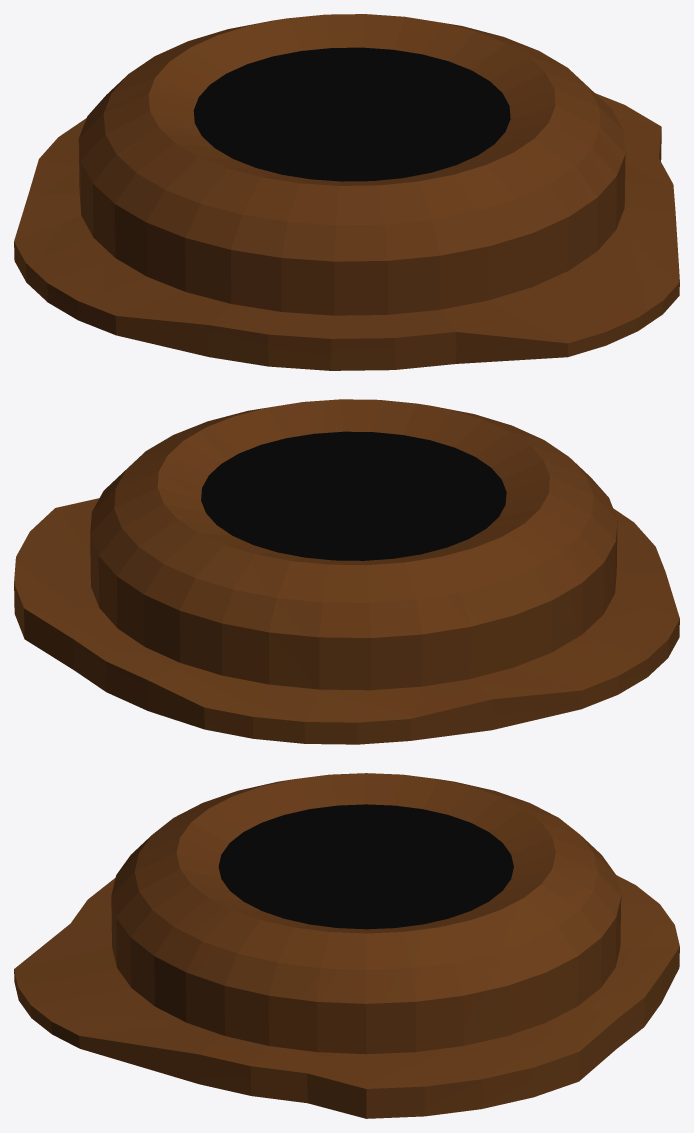
Rendered from tuneltopo.fbx.
3 renders of one model, top to bottom at view 1: azimuth 30°, elevation 25°; view 2: azimuth 150°, elevation 25°; view 3: azimuth 270°, elevation 25°, orthographic. The views are drawn at different scales.
Parts seen in each view (by area): view 1: Cilindro; view 2: Cilindro; view 3: Cilindro.
Boxes of the visible parts, <box> form: Cilindro: <box>14,14,679,370</box>; Cilindro: <box>14,399,679,744</box>; Cilindro: <box>14,773,679,1118</box>.
Size of the model in its own units: 303 by 63.33 by 305.
